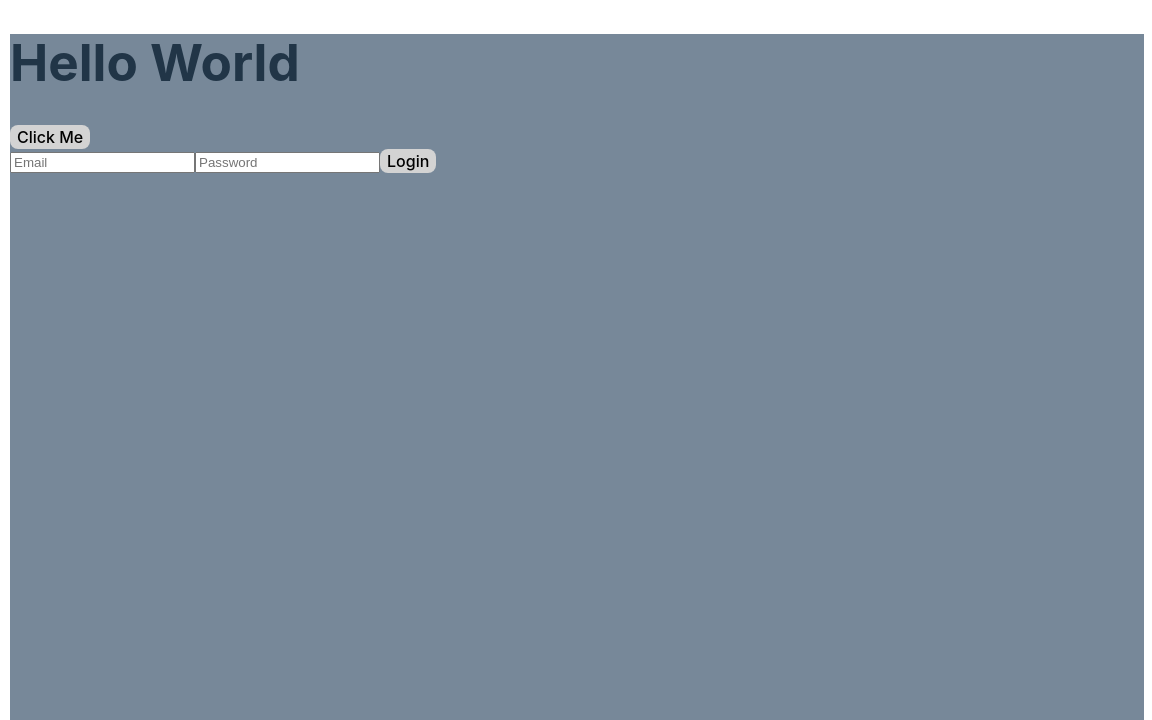
Login Form › shows error message when inputs are empty
This screenshot has width=1152, height=720.
Click the submit button.
click(408, 161)  # box [380, 149, 436, 173]
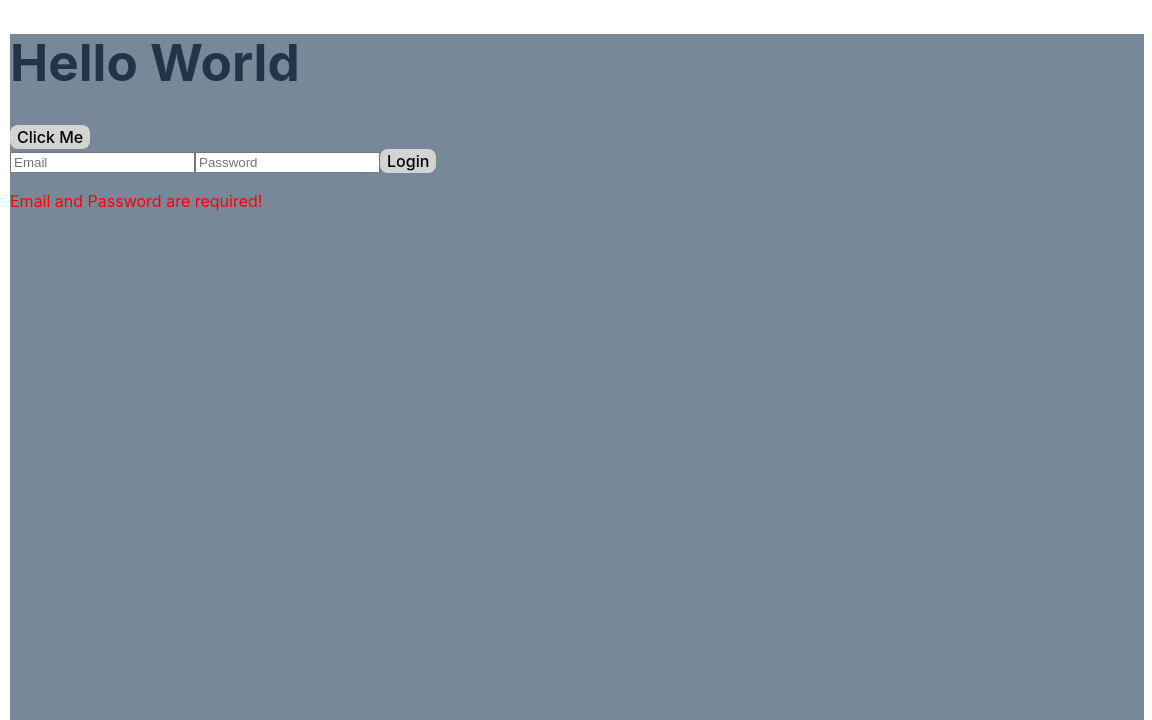
Expected: the text "Email and Password are required!" is shown, [10, 191, 262, 211]
